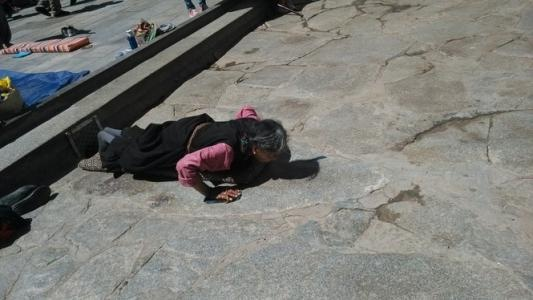falling: (0, 14, 97, 57)
